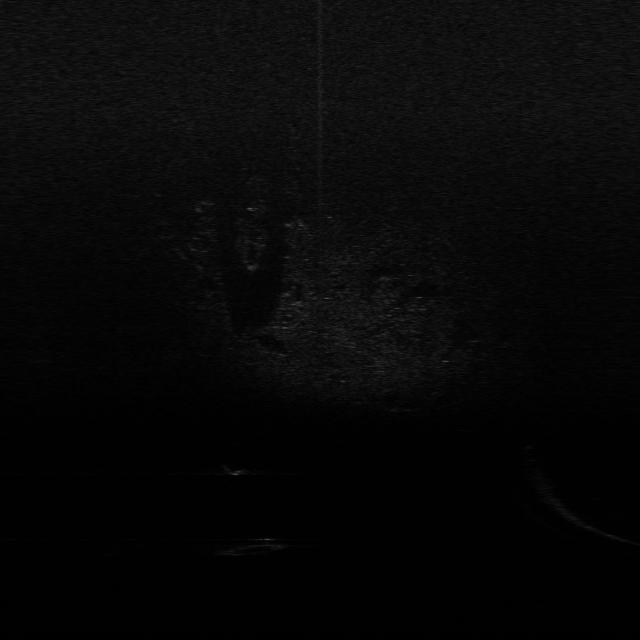square cage: (218, 461, 251, 478)
tyre: (216, 535, 290, 559)
